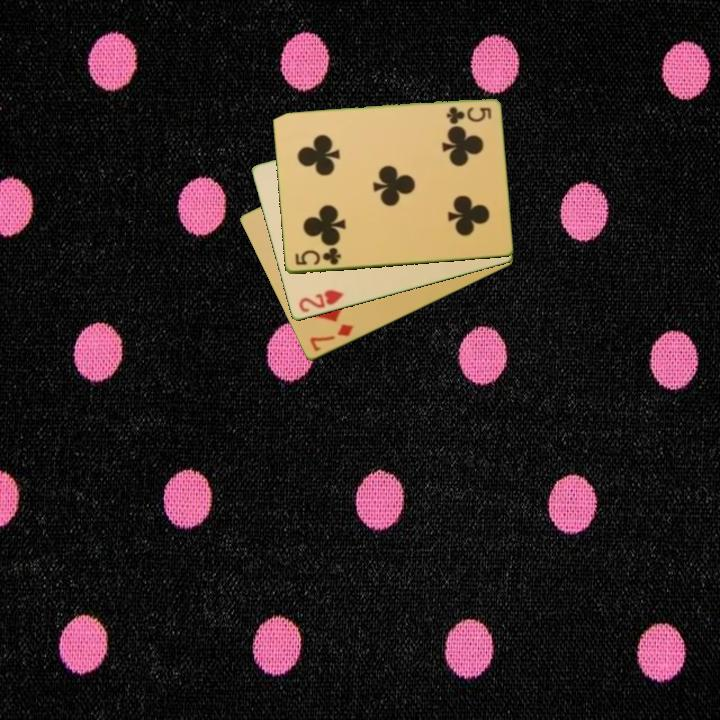2h: (295, 286, 346, 316)
5c: (291, 244, 344, 268), (443, 103, 494, 125)
7d: (306, 321, 356, 355)
